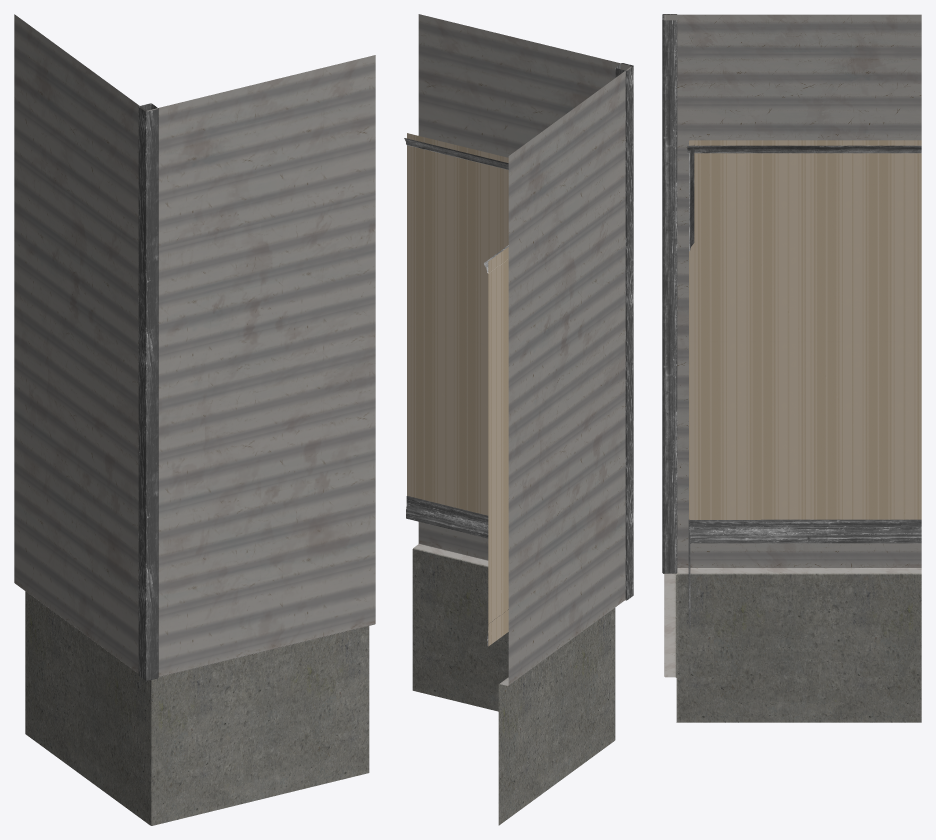
File: SM_Corner_1Floor_A.fbx
3 renders of one model, left to right at view 1: azimuth 30°, elevation 25°; view 2: azimuth 150°, elevation 25°; view 3: azimuth 270°, elevation 25°, orthographic. The views are drawn at different scales.
Parts seen in each view (by area): view 1: SM_Corner_1Floor_A; view 2: SM_Corner_1Floor_A; view 3: SM_Corner_1Floor_A.
Part boxes in pixels (box(x1,y1,x2,y2)): SM_Corner_1Floor_A: box(14, 14, 375, 825); SM_Corner_1Floor_A: box(404, 14, 633, 825); SM_Corner_1Floor_A: box(662, 14, 921, 722).
Bounding box in the file's own units: 148 × 148 × 443.
5 materials, 5 textured.
